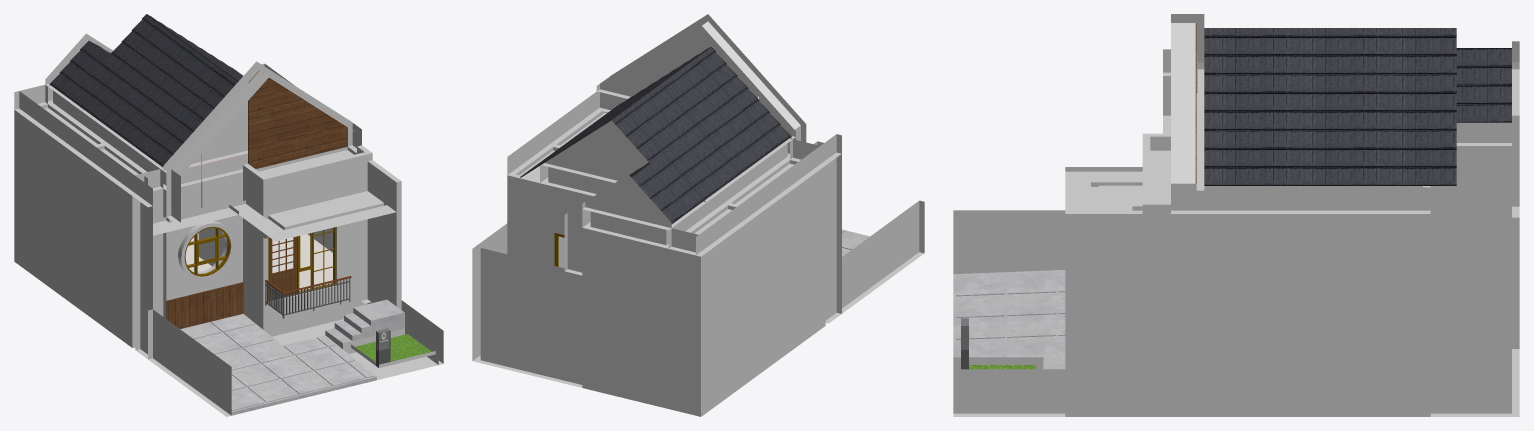
The model's file is hiroi-yuri-42.glb.
The picture shows the model from 3 angles, left to right: view 1: azimuth 30°, elevation 25°; view 2: azimuth 150°, elevation 25°; view 3: azimuth 270°, elevation 25°; orthographic projection. The views are drawn at different scales.
Visible parts, largest first — view 1: ID6, ID651, ID121, ID633, ID836, ID554, ID801, ID168, ID613; view 2: ID6, ID651; view 3: ID6, ID651, ID121.
Boxes of the visible parts, x1,y1,x2,y2 form: ID6: (14, 33, 443, 416); ID651: (49, 14, 242, 167); ID121: (180, 299, 404, 415); ID633: (166, 70, 347, 328); ID836: (185, 233, 336, 302); ID554: (184, 226, 336, 301); ID801: (265, 278, 350, 318); ID168: (269, 236, 297, 300); ID613: (355, 334, 431, 362); ID6: (472, 14, 924, 416); ID651: (520, 47, 791, 224); ID6: (953, 14, 1519, 416); ID651: (1204, 28, 1511, 185); ID121: (953, 270, 1065, 369).
Bounding box in the file's own units: 6.5 × 7.34 × 11.
Materials: 17 (8 with a texture image).
